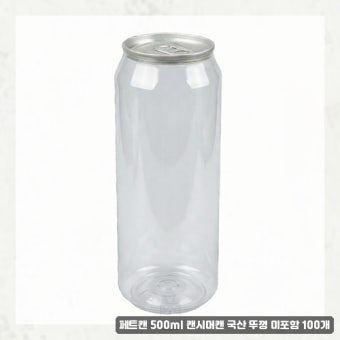paper: (114, 30, 222, 315)
